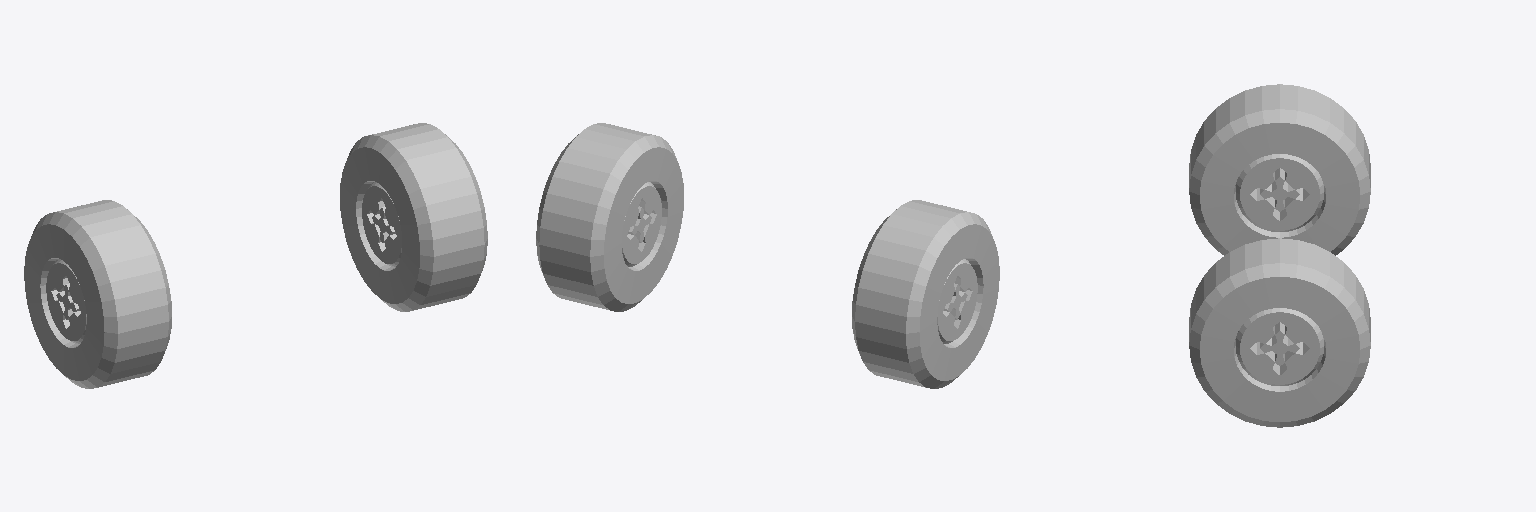
The model's file is duas rodas.OBJ.
The picture shows the model from 3 angles: view 1: azimuth 30°, elevation 25°; view 2: azimuth 150°, elevation 25°; view 3: azimuth 270°, elevation 25°; orthographic projection.
Parts seen in each view (by area): view 1: Group63740, Group24875; view 2: Group63740, Group24875; view 3: Group63740, Group24875.
Boxes of the visible parts, x1=… form: Group63740: x1=24, y1=123, x2=487, y2=388; Group24875: x1=46, y1=182, x2=401, y2=343; Group63740: x1=536, y1=123, x2=999, y2=388; Group24875: x1=622, y1=182, x2=977, y2=343; Group63740: x1=1189, y1=84, x2=1370, y2=427; Group24875: x1=1236, y1=154, x2=1323, y2=385.
Size of the model in its own units: 3.77 by 1.54 by 1.54.